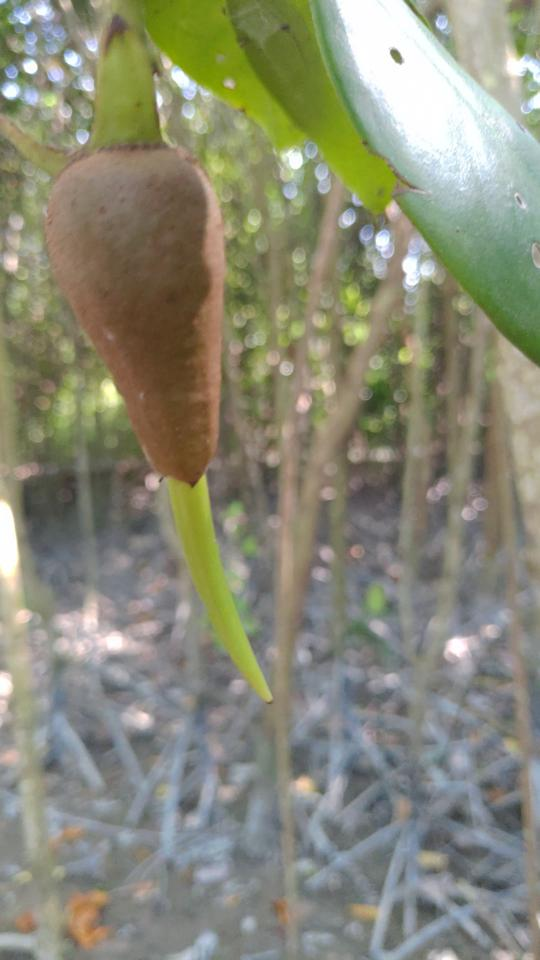mentah: (11, 129, 291, 719)
